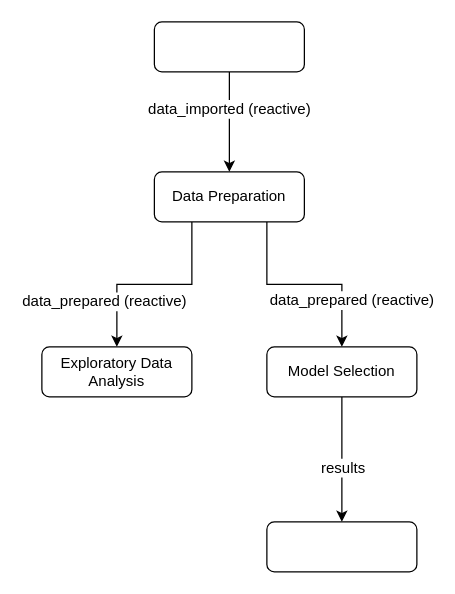
This 455x594 diagram has some shape labels left out. Here are the shapes that lost their labels. From the top down, the centre of each, then its label:
[228,46]: Data Importation
[341,546]: Export Results
